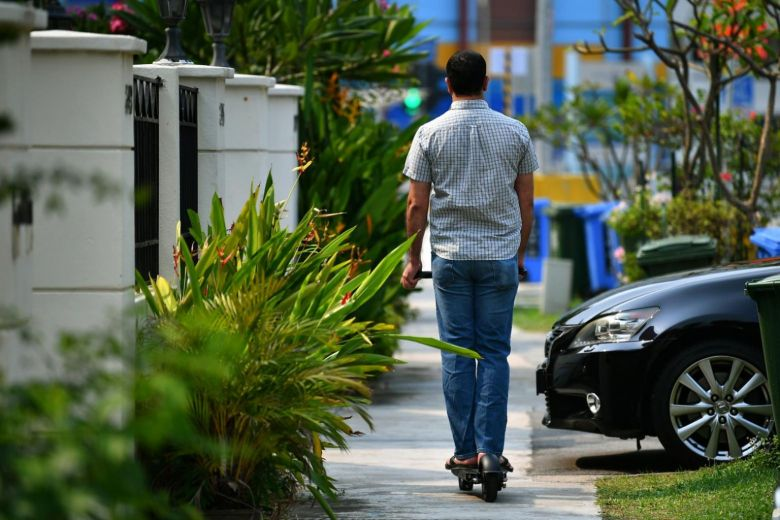Person: (403, 50, 538, 478)
